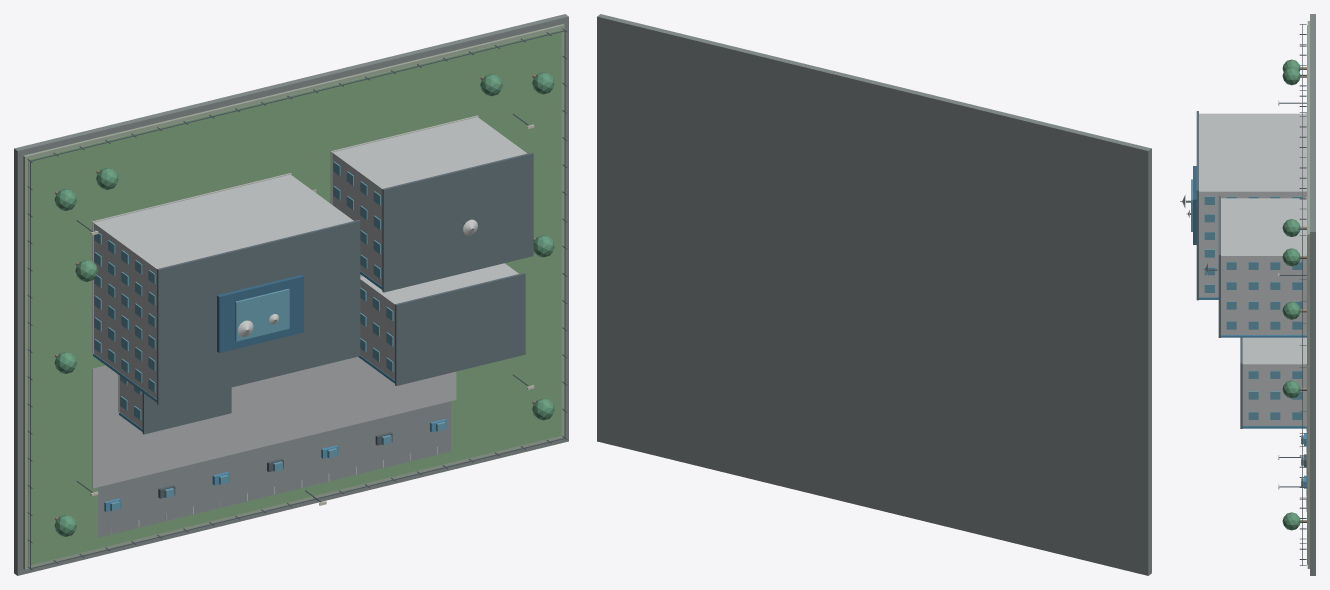
Rendered from scouting_office_level_5.glb.
The picture shows the model from 3 angles, left to right: view 1: azimuth 30°, elevation 25°; view 2: azimuth 150°, elevation 25°; view 3: azimuth 270°, elevation 25°; orthographic projection. The views are drawn at different scales.
Parts seen in each view (by area): view 1: component_0002, component_0101, component_0081, component_0099, component_0495, component_0283, component_0000, component_0389, component_0281, component_0001, component_0387, component_0279 (+6 smaller); view 2: component_0000; view 3: component_0099, component_0281, component_0387, component_0000, component_0001, component_0101, component_0002, component_0283, component_0080, component_0279, component_0389, component_0558 (+9 smaller).
Boxes of the visible parts, x1,y1,x2,y2 form: component_0002: [28, 29, 561, 565]; component_0101: [157, 220, 360, 405]; component_0081: [92, 356, 456, 488]; component_0099: [93, 174, 353, 399]; component_0495: [98, 401, 450, 537]; component_0283: [382, 152, 533, 292]; component_0000: [14, 14, 568, 575]; component_0389: [395, 273, 525, 385]; component_0281: [332, 117, 526, 286]; component_0001: [23, 24, 564, 569]; component_0387: [360, 263, 518, 380]; component_0279: [217, 274, 303, 352]; component_0000: [597, 14, 1151, 575]; component_0099: [1199, 113, 1305, 297]; component_0281: [1221, 198, 1305, 334]; component_0387: [1242, 337, 1305, 425]; component_0000: [1310, 14, 1315, 575]; component_0001: [1307, 21, 1309, 568]; component_0101: [1196, 111, 1198, 300]; component_0002: [1307, 25, 1307, 564]; component_0283: [1218, 195, 1220, 337]; component_0080: [1302, 236, 1302, 565]; component_0279: [1193, 166, 1196, 244]; component_0389: [1240, 337, 1242, 428]; component_0558: [1282, 512, 1300, 530].
Size of the model in its own units: 53.1 by 39.1 by 13.99.
